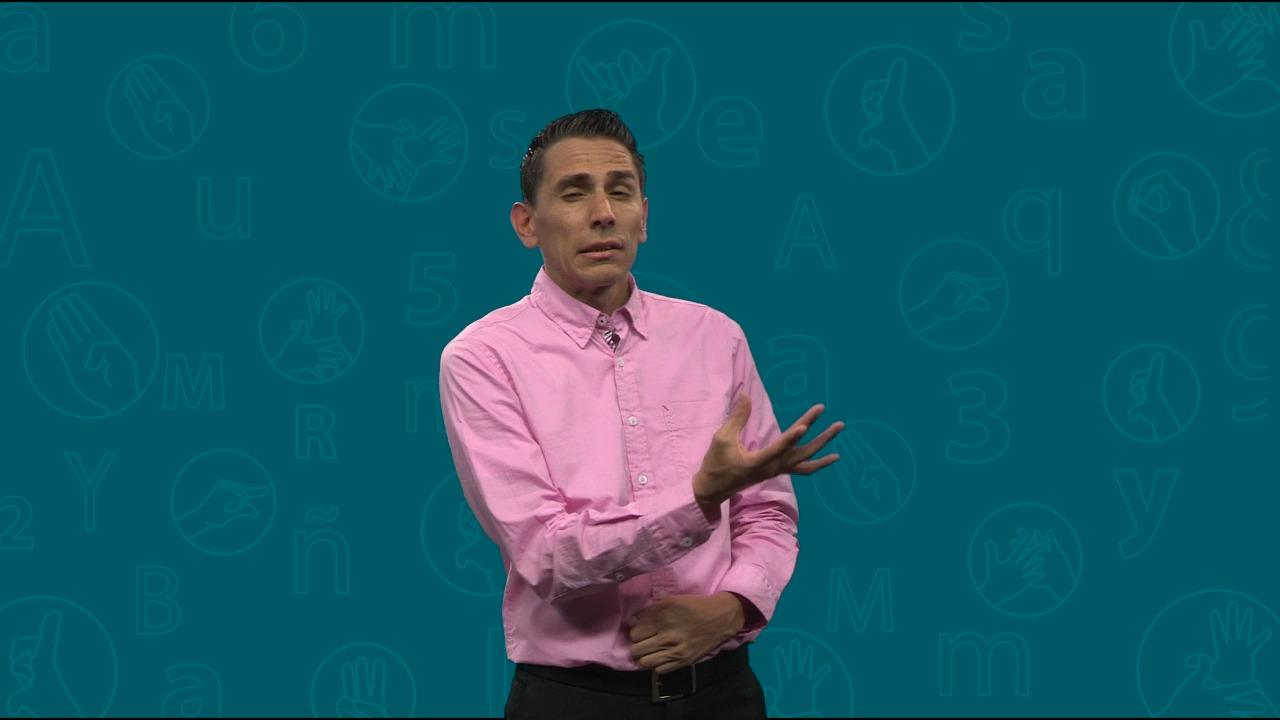Dolor: (352, 76, 906, 644)
